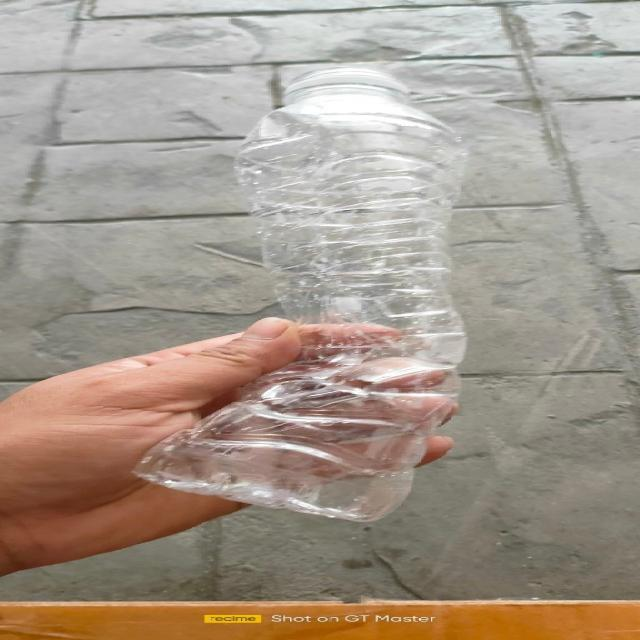bottle: (130, 67, 467, 522)
